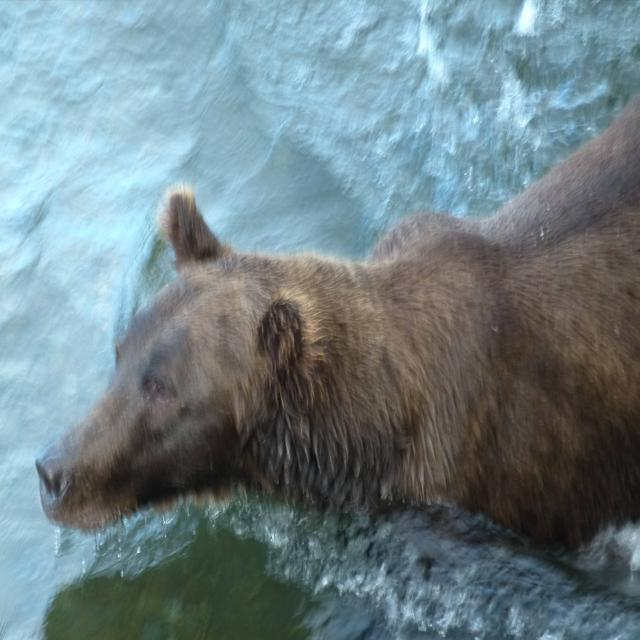bear face: (29, 86, 640, 533)
